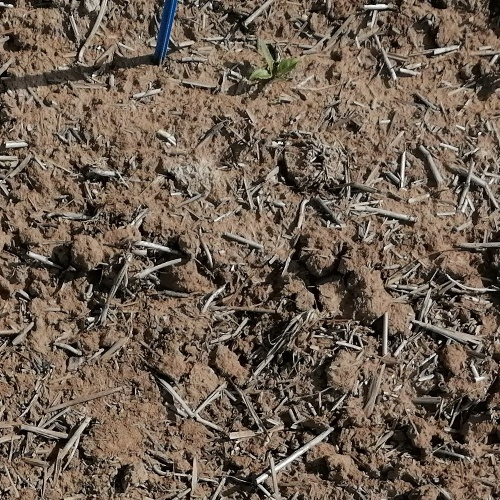beet: (249, 36, 301, 82)
